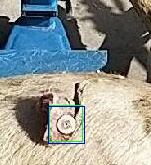text: (49, 105, 82, 141)
